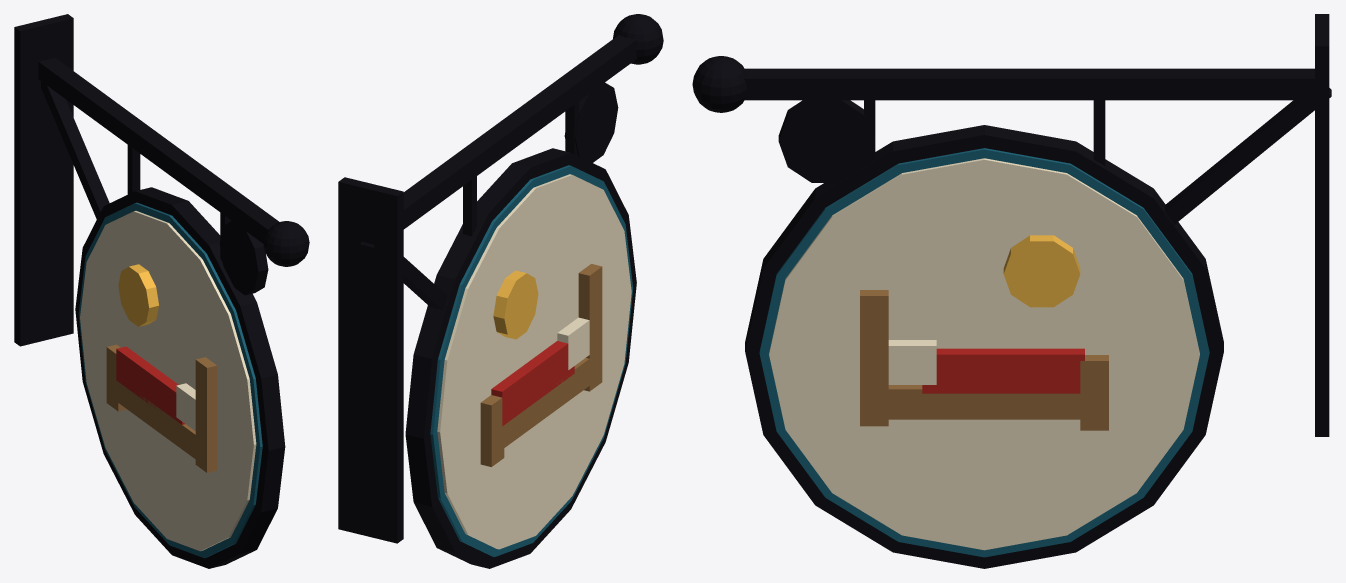
Rendered from shop_inn_sign.gltf.
3 views of the same model, side by side, from view 1: azimuth 30°, elevation 25°; view 2: azimuth 150°, elevation 25°; view 3: azimuth 270°, elevation 25° (orthographic). The views are drawn at different scales.
Visible parts, largest first — view 1: ShopInnSignShopIron, ShopInnSignShopCream, ShopInnSignShopWoodLight, ShopInnSignShopCloth, ShopInnSignShopRed, ShopInnSignShopGold; view 2: ShopInnSignShopIron, ShopInnSignShopCream, ShopInnSignShopWoodLight, ShopInnSignShopCloth, ShopInnSignShopRed, ShopInnSignShopGold; view 3: ShopInnSignShopCream, ShopInnSignShopIron, ShopInnSignShopCloth, ShopInnSignShopWoodLight, ShopInnSignShopRed, ShopInnSignShopGold.
Part boxes in pixels (x1,y1,x2,y2): ShopInnSignShopIron: [14, 14, 309, 568]; ShopInnSignShopCream: [80, 211, 256, 551]; ShopInnSignShopWoodLight: [106, 344, 217, 472]; ShopInnSignShopCloth: [78, 202, 262, 558]; ShopInnSignShopRed: [116, 346, 184, 424]; ShopInnSignShopGold: [118, 264, 158, 326]; ShopInnSignShopIron: [338, 14, 663, 568]; ShopInnSignShopCream: [437, 174, 631, 549]; ShopInnSignShopWoodLight: [480, 264, 602, 466]; ShopInnSignShopCloth: [430, 165, 633, 556]; ShopInnSignShopRed: [491, 341, 574, 426]; ShopInnSignShopGold: [493, 270, 538, 339]; ShopInnSignShopCream: [769, 158, 1199, 550]; ShopInnSignShopIron: [692, 14, 1331, 568]; ShopInnSignShopCloth: [759, 148, 1209, 557]; ShopInnSignShopWoodLight: [860, 290, 1108, 430]; ShopInnSignShopRed: [922, 348, 1084, 393]; ShopInnSignShopGold: [1003, 235, 1080, 307].
Size of the model in its own units: 0.16 by 1.23 by 1.33.
